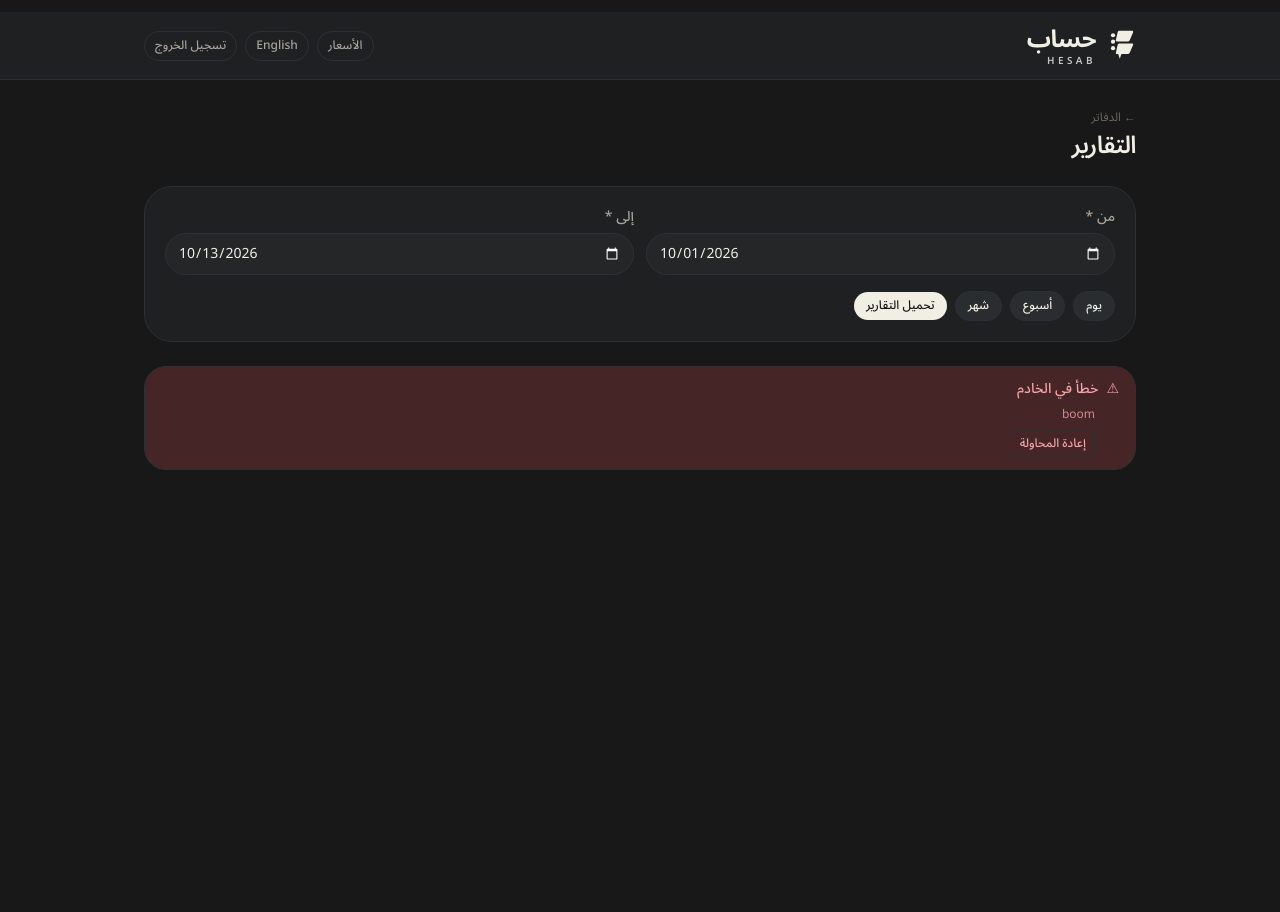
Test: ReportsPage › surfaces an API error and recovers when the user retries
This screenshot has width=1280, height=912.
Expected: the message shows "خطأ في الخادم", 1017,374 -> 1098,404
Click the button "إعادة المحاولة". click: [1053, 444]
box: 1011,432 -> 1095,458
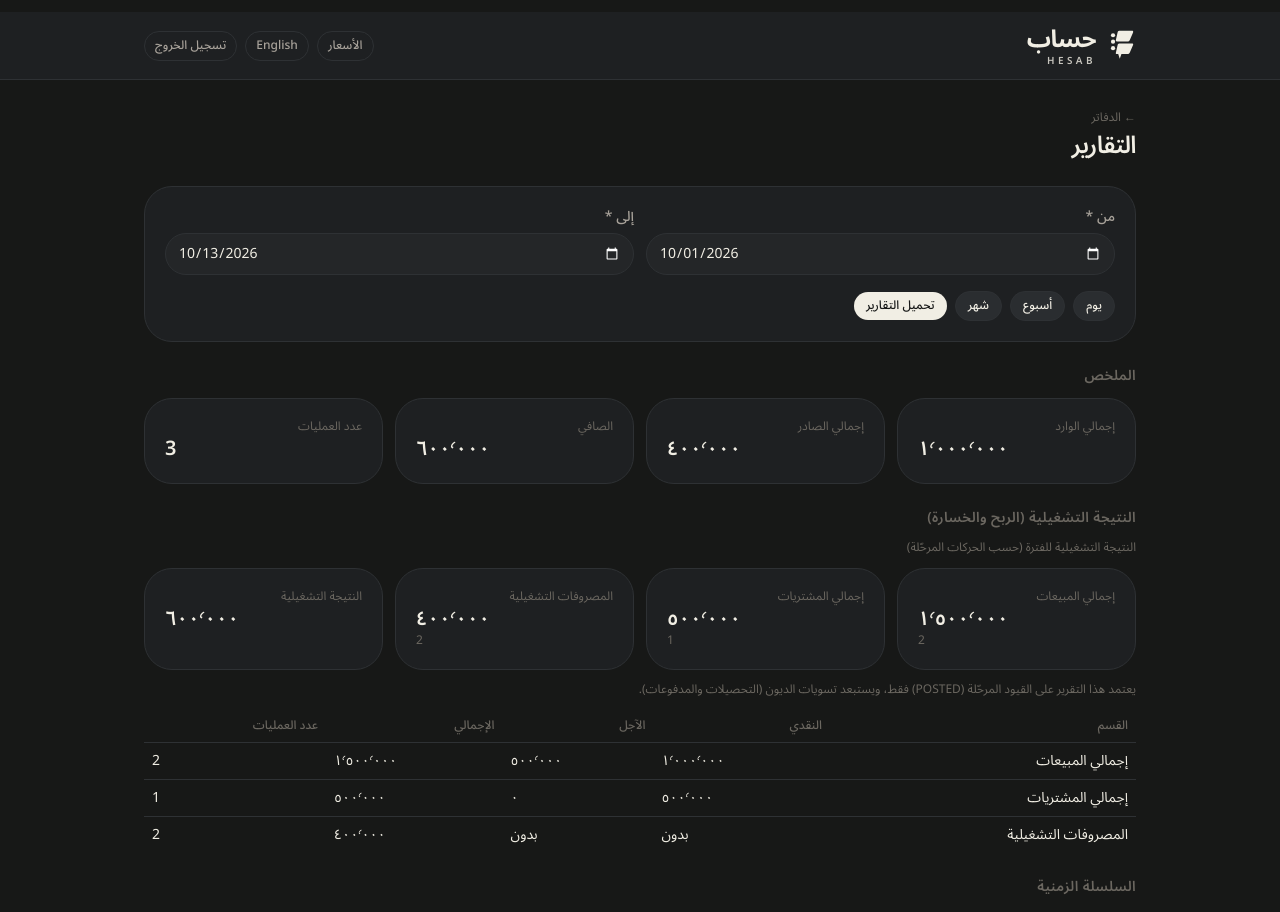
Expected: the heading "الملخص" is shown, 1084,362 -> 1136,390
Expected: the message "⚠ خطأ في الخادم boom إعادة المحاولة" is gone
